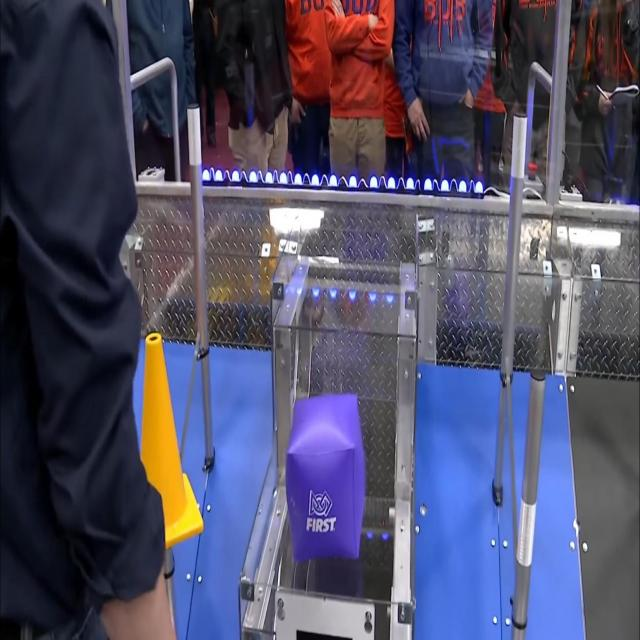frc_cone: (139, 333, 202, 545)
frc_cube: (287, 392, 366, 561)
